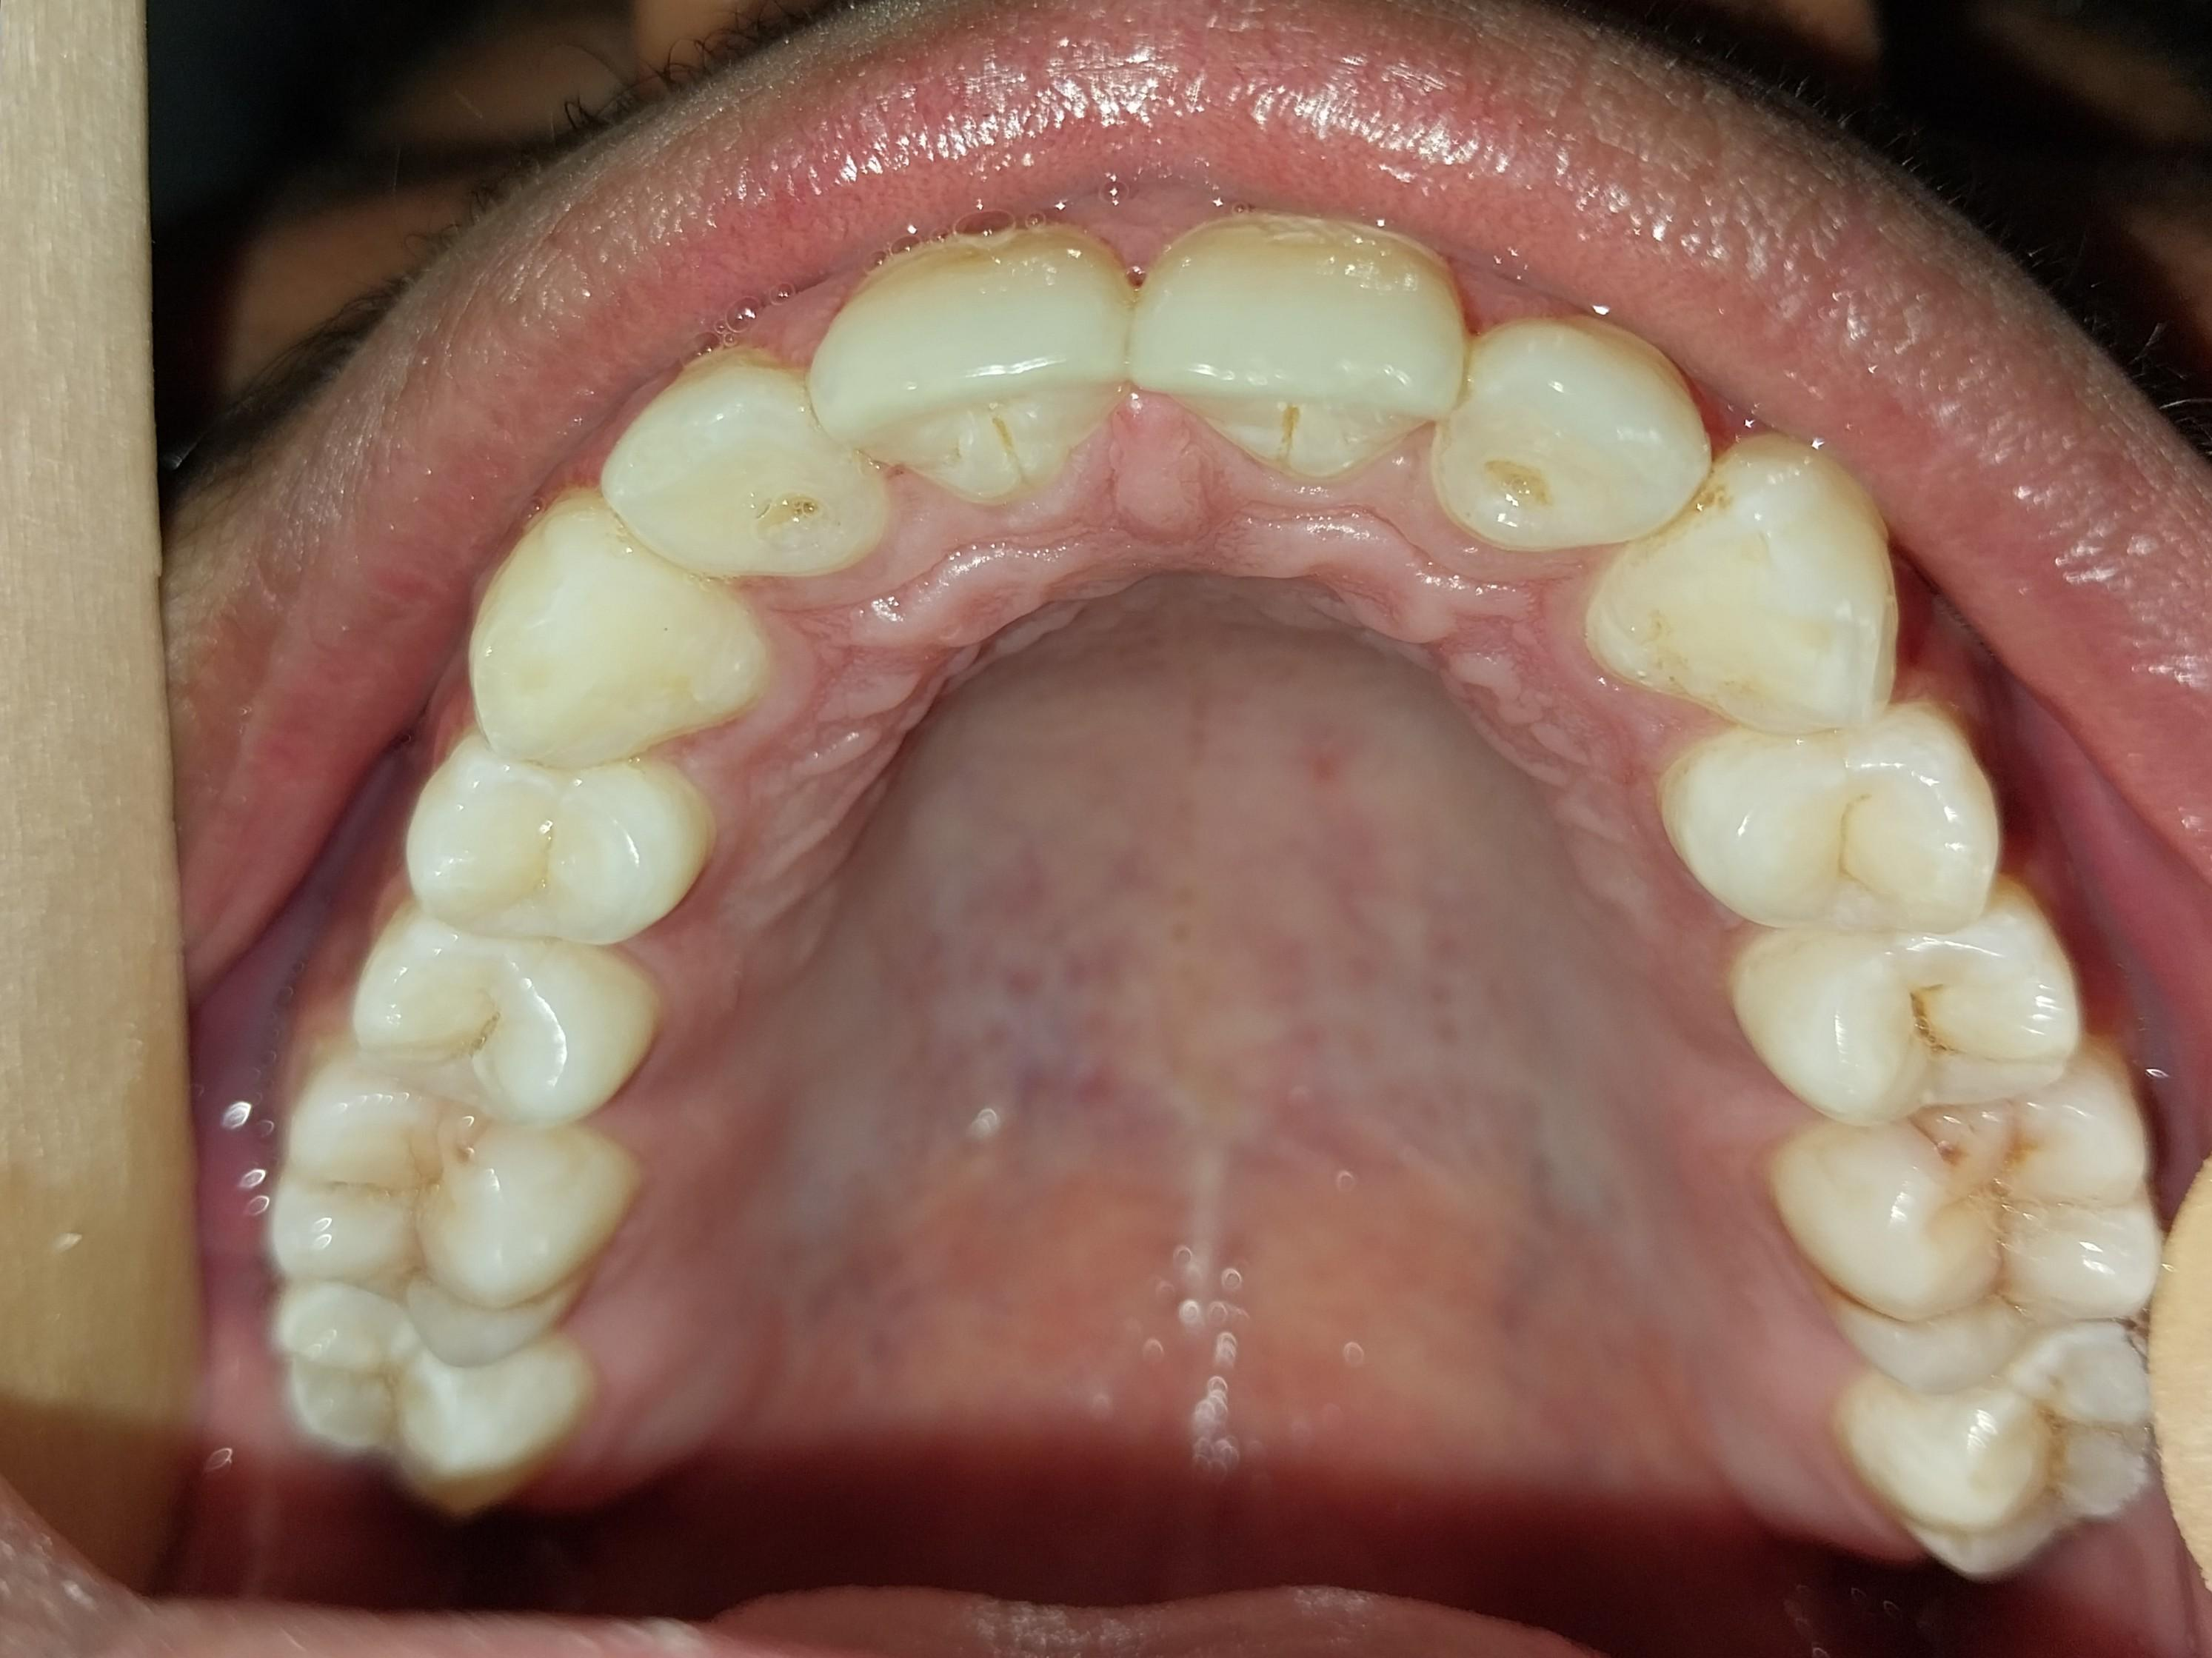D: (1738, 933, 2082, 1123)
